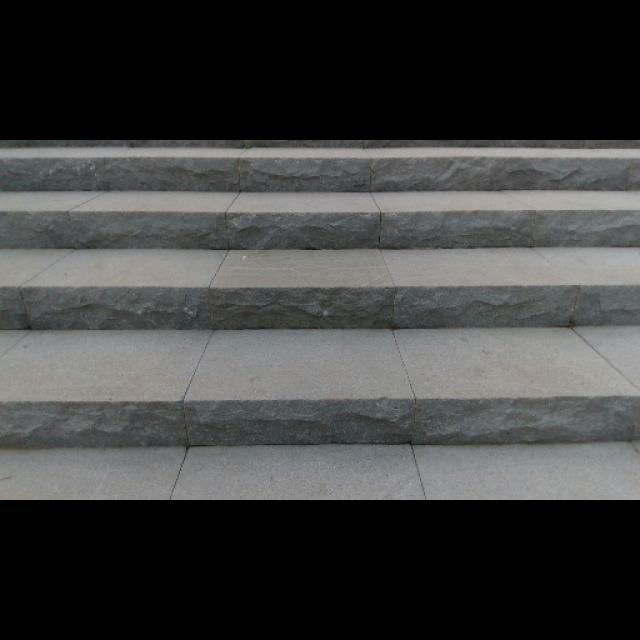Stairs: (0, 140, 639, 448)
